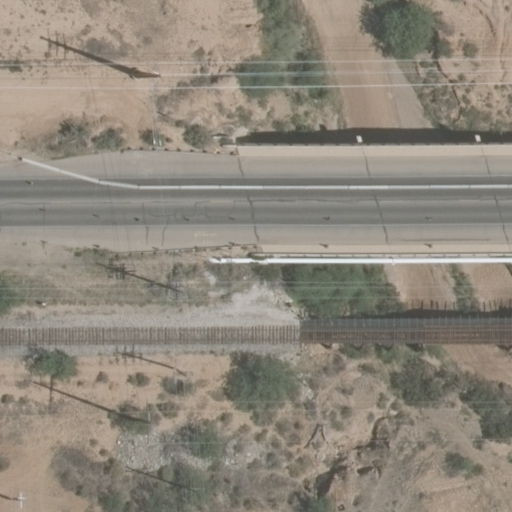DT: (130, 64, 165, 85), (140, 412, 160, 435), (171, 365, 189, 387), (10, 490, 27, 508)
